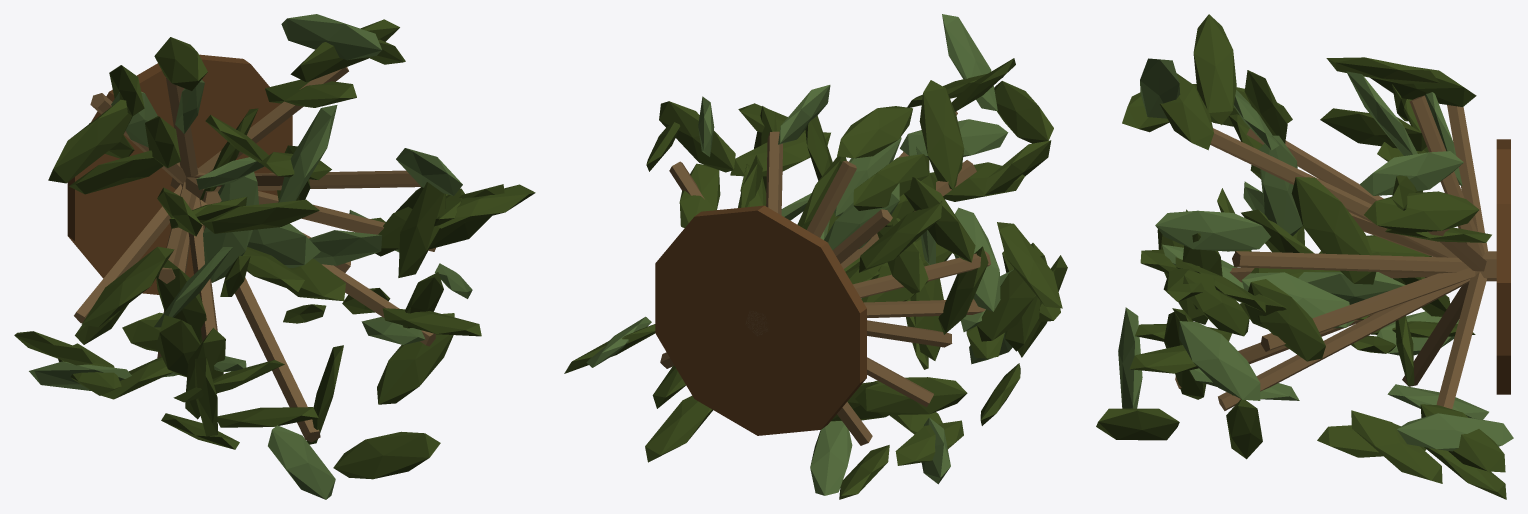
Rendered from 1_sapling.obj.
3 renders of one model, left to right at view 1: azimuth 30°, elevation 25°; view 2: azimuth 150°, elevation 25°; view 3: azimuth 270°, elevation 25°, orthographic. The views are drawn at different scales.
Visible parts, largest first — view 1: 1_sapling; view 2: 1_sapling; view 3: 1_sapling.
Boxes of the visible parts, left/top/right/bottom form: 1_sapling: left=14, top=14, right=535, bottom=499; 1_sapling: left=564, top=14, right=1067, bottom=499; 1_sapling: left=1096, top=14, right=1513, bottom=499.
Size of the model in its own units: 0.1988 by 0.1861 by 0.1735.
